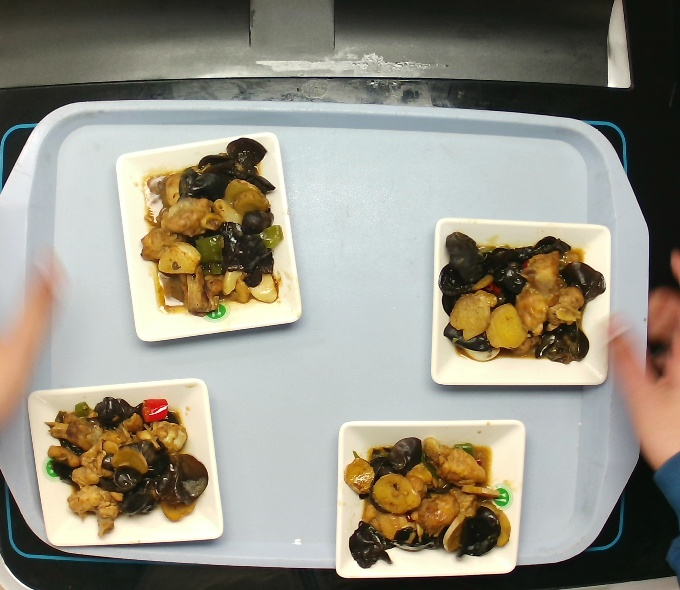wcq-MuErJiKuai: (132, 138, 292, 321), (40, 387, 211, 533), (352, 422, 504, 569), (444, 221, 590, 374)
